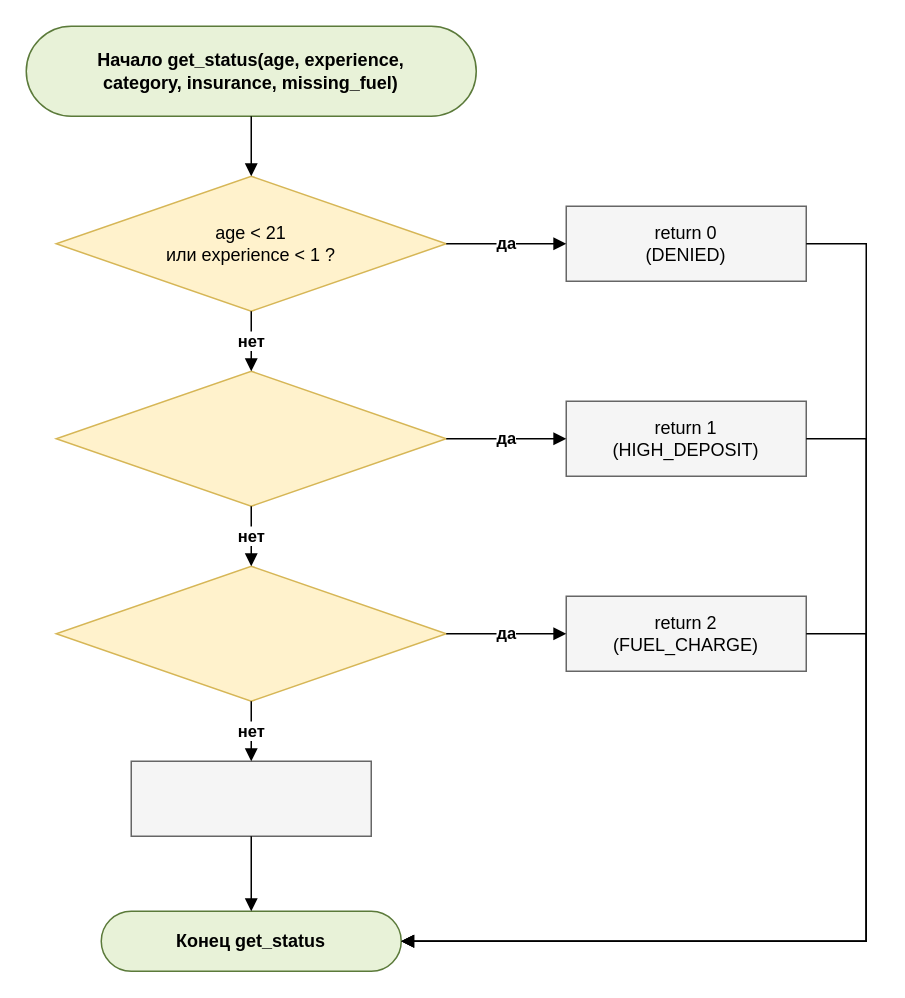
Some shapes in this 905 by 998 pixel diagram are drawn without their labels. The centre of each missing label's shape, as x and y in pixels:
category = 3 и insurance = 0 ?: (250,438)
missing_fuel > 0 ?: (250,633)
return 3 (ACCEPTED): (250,798)
